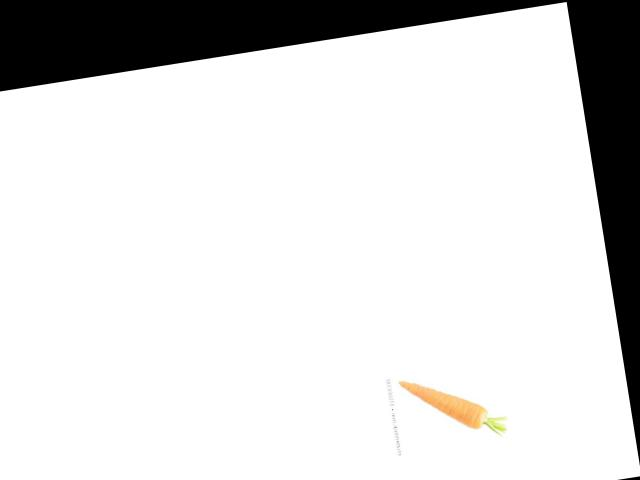carrot: (395, 362, 497, 449)
